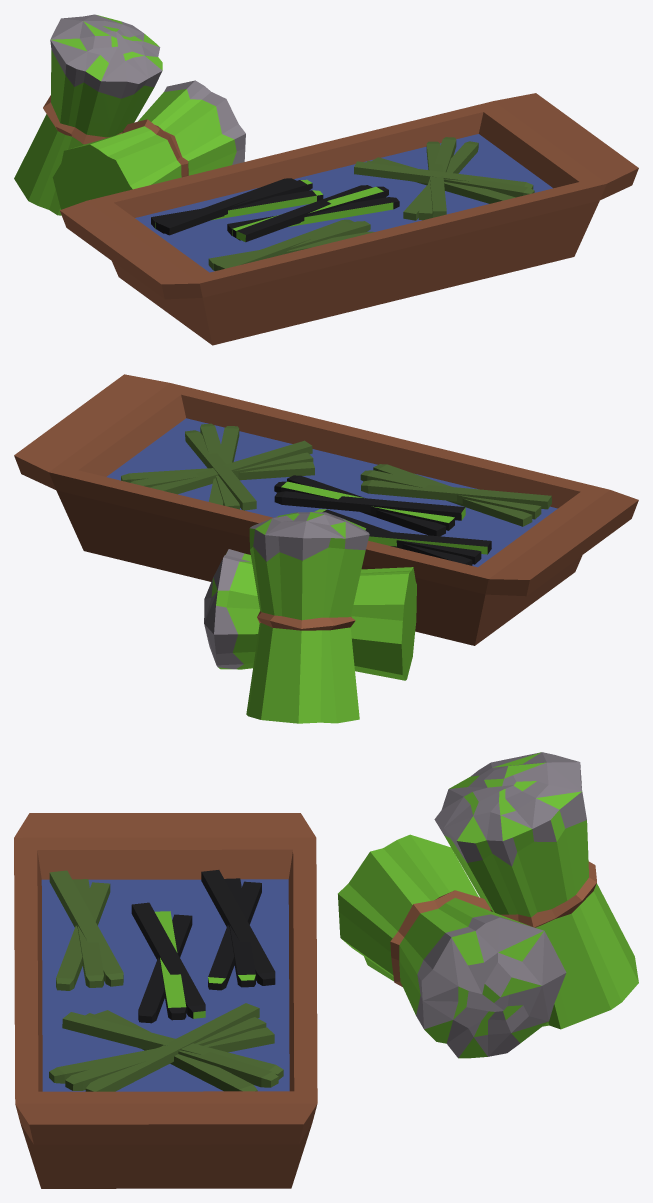
The model's file is soaking_flax_2.fbx.
The picture shows the model from 3 angles, top to bottom: view 1: azimuth 30°, elevation 25°; view 2: azimuth 150°, elevation 25°; view 3: azimuth 270°, elevation 25°; orthographic projection. The views are drawn at different scales.
Visible parts, largest first — view 1: trough, flax_resource, wet_flax.001, water 1; view 2: trough, flax_resource, wet_flax.001, water 1; view 3: trough, flax_resource, wet_flax.001, water 1.
Part boxes in pixels (x1,y1,x2,y2): trough: [60, 93, 638, 345]; flax_resource: [14, 14, 245, 215]; wet_flax.001: [151, 137, 534, 270]; water 1: [135, 134, 552, 272]; trough: [14, 374, 638, 645]; flax_resource: [204, 512, 416, 723]; wet_flax.001: [121, 423, 551, 565]; water 1: [107, 418, 557, 567]; trough: [14, 813, 317, 1188]; flax_resource: [338, 752, 638, 1058]; wet_flax.001: [49, 870, 283, 1091]; water 1: [41, 879, 289, 1091].
Size of the model in its own units: 131 by 48.45 by 111.
